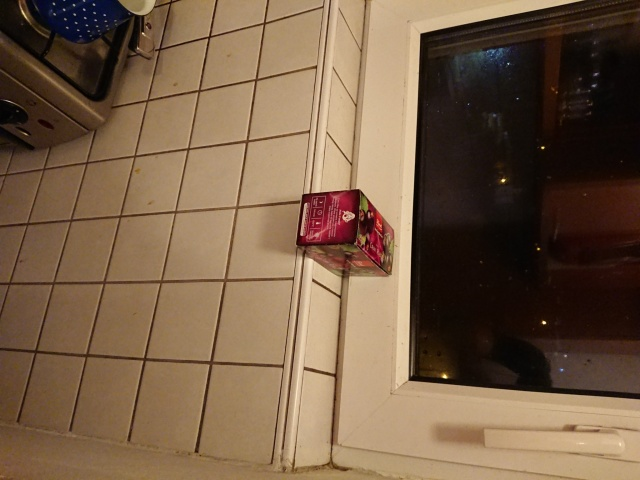Franck Black Currant Tea 60g: (293, 187, 397, 279)
